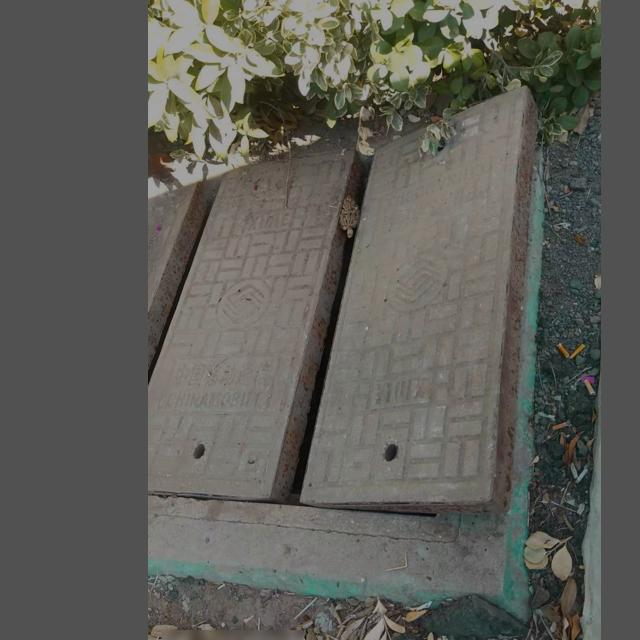uncovered: (148, 78, 539, 522)
